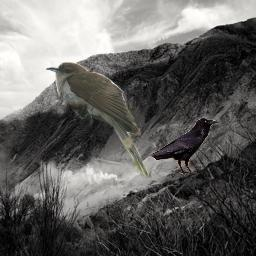Crow: (148, 116, 219, 174)
Cuckoo: (46, 62, 149, 179)
